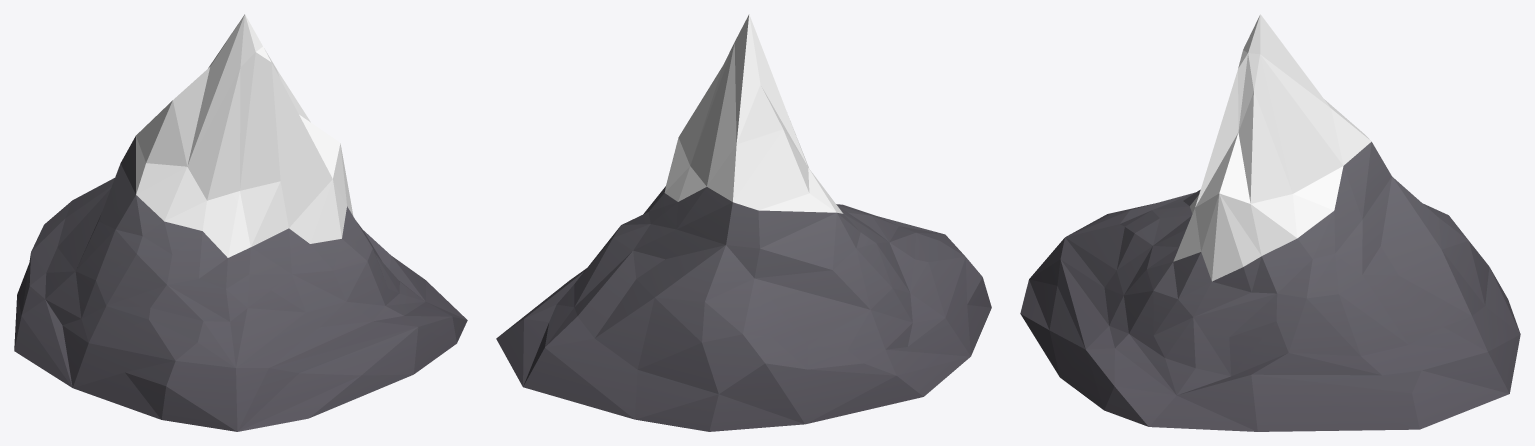
Rendered from Mountain_01.glb.
3 renders of one model, left to right at view 1: azimuth 30°, elevation 25°; view 2: azimuth 150°, elevation 25°; view 3: azimuth 270°, elevation 25°, orthographic. The views are drawn at different scales.
Parts seen in each view (by area): view 1: Mountain_01; view 2: Mountain_01; view 3: Mountain_01.
Boxes of the visible parts, x1,y1,x2,y2 form: Mountain_01: (14,14,467,431); Mountain_01: (496,14,991,431); Mountain_01: (1020,14,1520,431).
Bounding box in the file's own units: 61.39 × 47.52 × 66.18.
Materials: 1 (1 with a texture image).
